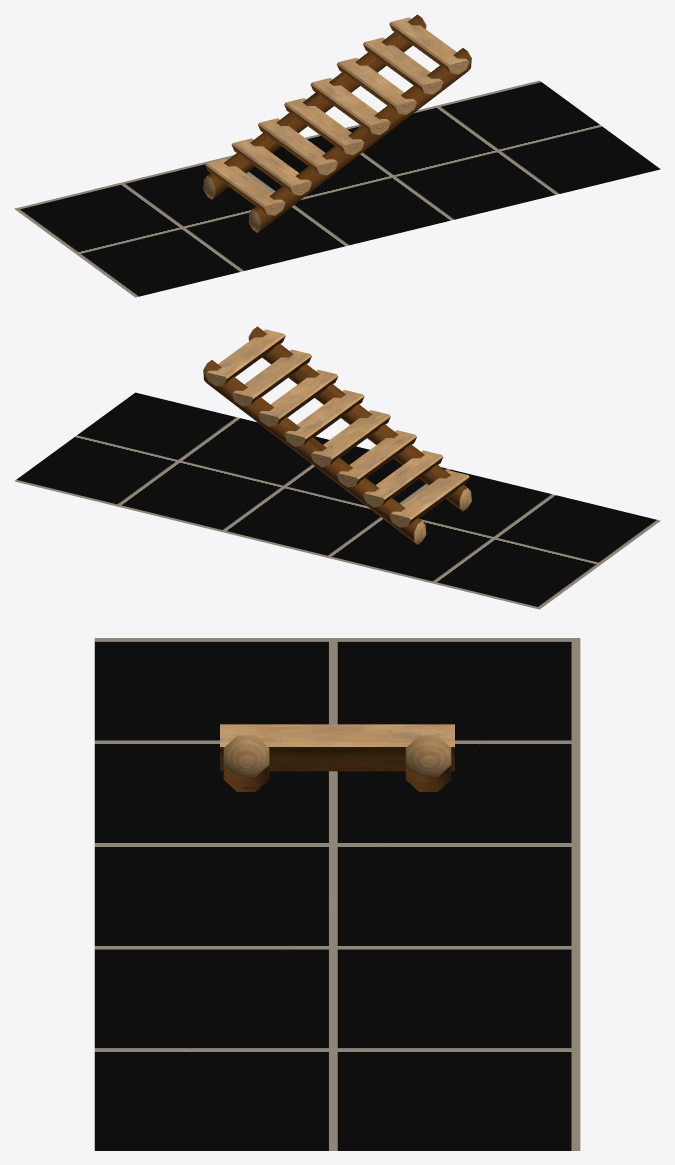
File: Docks_Decking_Steps_1x2.glb
3 renders of one model, top to bottom at view 1: azimuth 30°, elevation 25°; view 2: azimuth 150°, elevation 25°; view 3: azimuth 270°, elevation 25°, orthographic. The views are drawn at different scales.
Parts seen in each view (by area): view 1: Floor, Docks_Decking_Steps_1x2; view 2: Floor, Docks_Decking_Steps_1x2; view 3: Floor, Docks_Decking_Steps_1x2.
Part boxes in pixels (<box>): Floor: <box>14,80,660,297</box>; Docks_Decking_Steps_1x2: <box>203,14,471,232</box>; Floor: <box>14,392,660,609</box>; Docks_Decking_Steps_1x2: <box>203,326,471,544</box>; Floor: <box>94,638,580,1150</box>; Docks_Decking_Steps_1x2: <box>220,724,454,791</box>.
Size of the model in its own units: 500 by 119 by 200.
4 materials, 4 textured.
